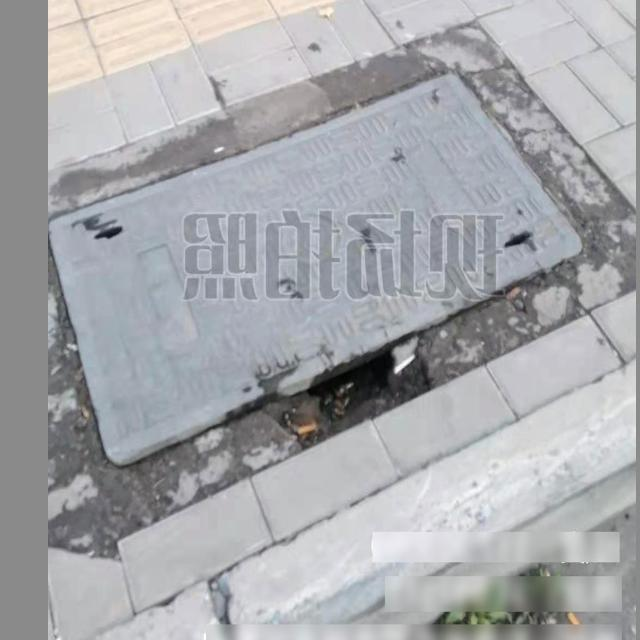circle: (48, 21, 629, 508)
